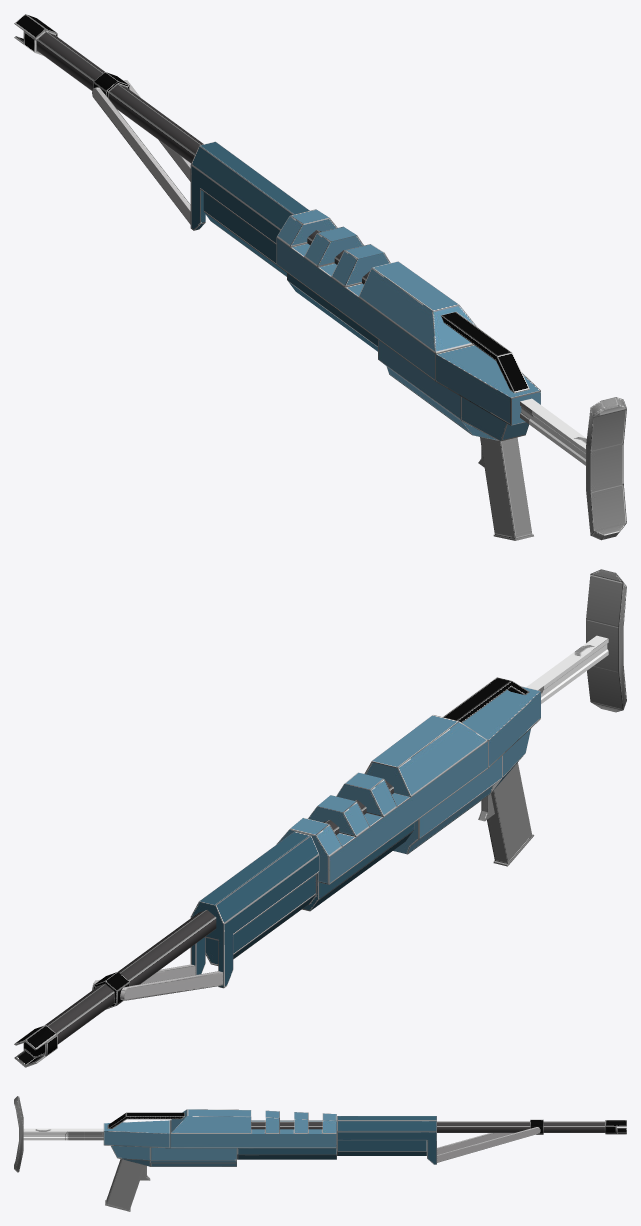
Rendered from PowerRifle.fbx.
3 renders of one model, top to bottom at view 1: azimuth 30°, elevation 25°; view 2: azimuth 150°, elevation 25°; view 3: azimuth 270°, elevation 25°, orthographic. The views are drawn at different scales.
Parts seen in each view (by area): view 1: Cube; view 2: Cube; view 3: Cube.
Part boxes in pixels (x1=…): Cube: x1=14, y1=14, x2=626, y2=540; Cube: x1=14, y1=569, x2=626, y2=1067; Cube: x1=14, y1=1096, x2=626, y2=1211.
Size of the model in its own units: 0.96 by 3.72 by 18.4.
